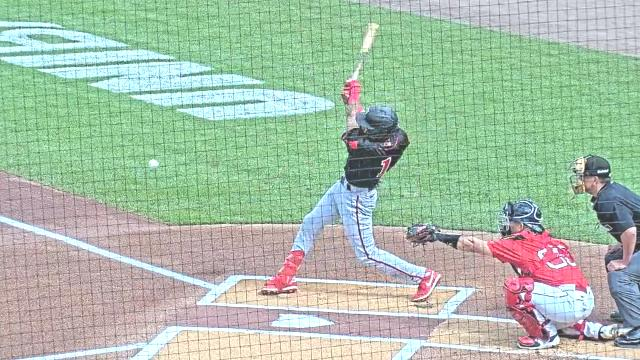ball: (147, 159, 159, 171)
bat: (342, 22, 378, 78)
